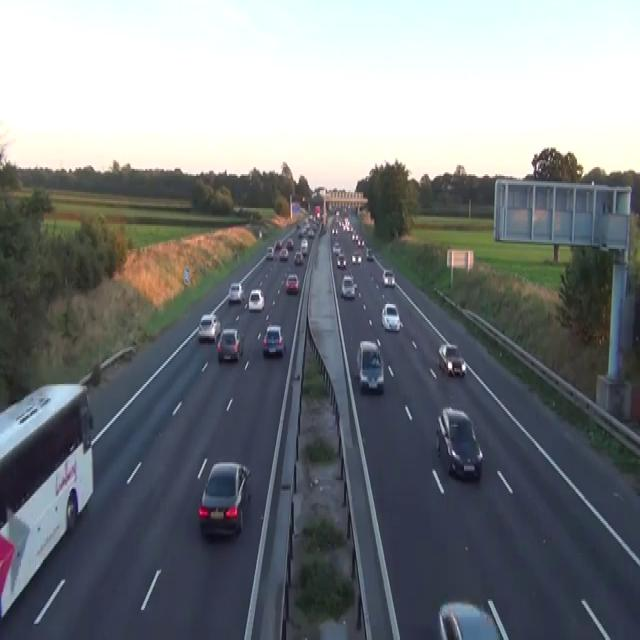Car: (198, 460, 251, 537), (435, 405, 483, 480), (437, 598, 509, 638), (356, 339, 384, 393), (0, 530, 15, 617), (438, 343, 466, 377), (217, 327, 242, 361), (262, 326, 284, 356), (198, 313, 220, 341), (381, 302, 401, 331), (340, 274, 356, 298), (248, 288, 264, 311), (228, 281, 245, 302), (285, 272, 299, 293), (382, 268, 395, 286), (336, 252, 346, 268), (278, 247, 288, 260), (300, 238, 308, 254), (294, 251, 303, 265), (332, 240, 341, 254), (351, 251, 361, 263), (266, 245, 274, 258), (366, 247, 373, 260), (319, 222, 326, 235), (356, 237, 364, 247), (286, 238, 293, 249), (307, 228, 314, 238), (331, 226, 338, 236), (274, 240, 281, 249), (233, 204, 240, 213), (297, 228, 303, 236), (359, 238, 364, 247), (296, 222, 300, 231), (258, 230, 262, 238), (335, 210, 339, 217)
Truck: (0, 380, 94, 622)
